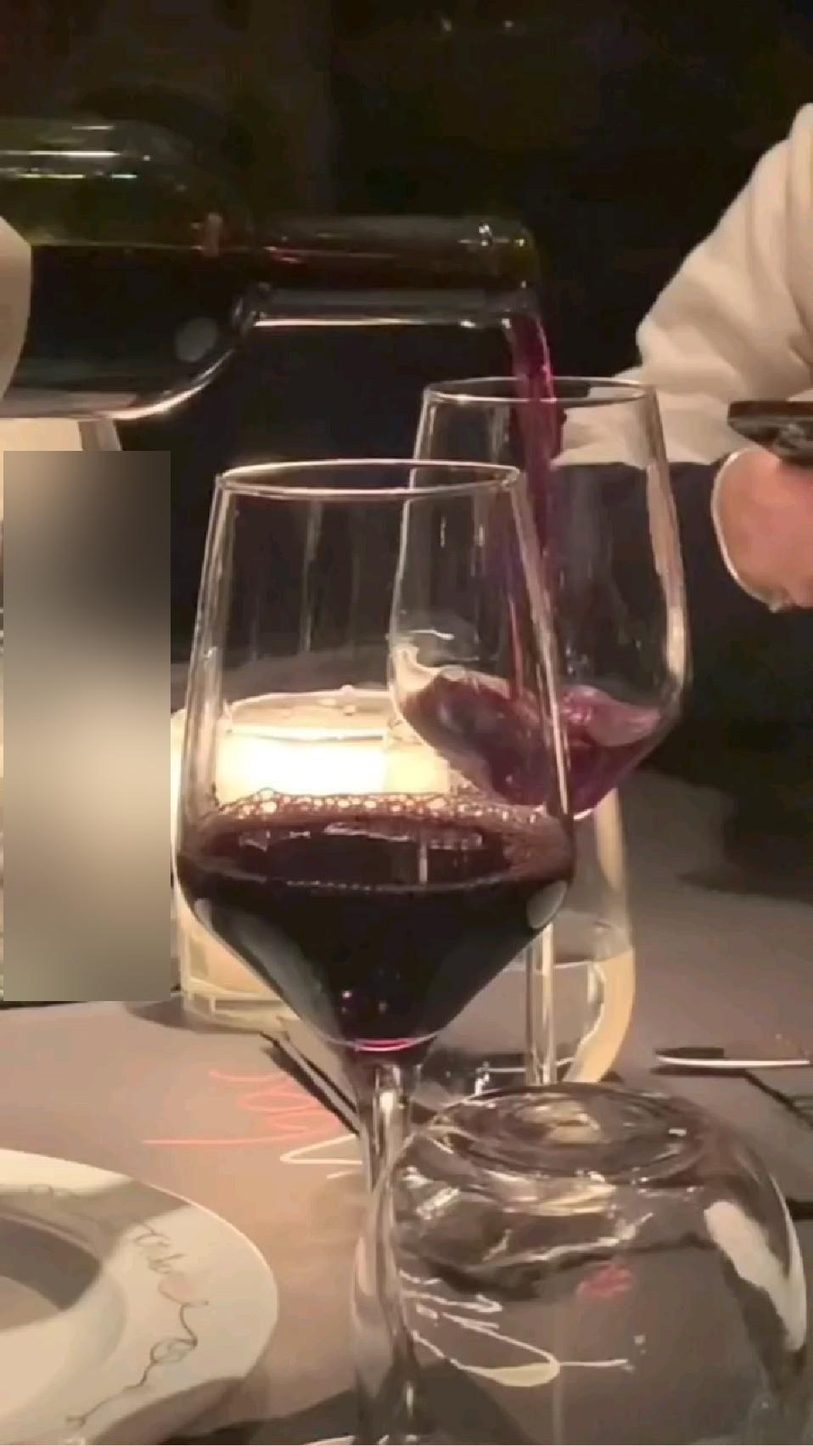bottle-glass: (1, 93, 558, 438)
glass-wine: (167, 454, 587, 1446), (404, 363, 704, 1124)
